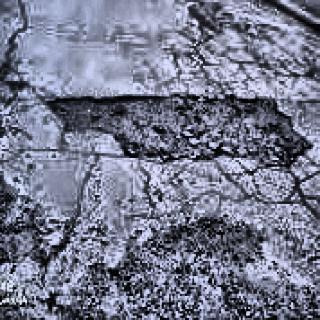alligator-crack: (82, 166, 320, 232)
crack: (0, 0, 36, 93)
pothole: (43, 84, 315, 178)
